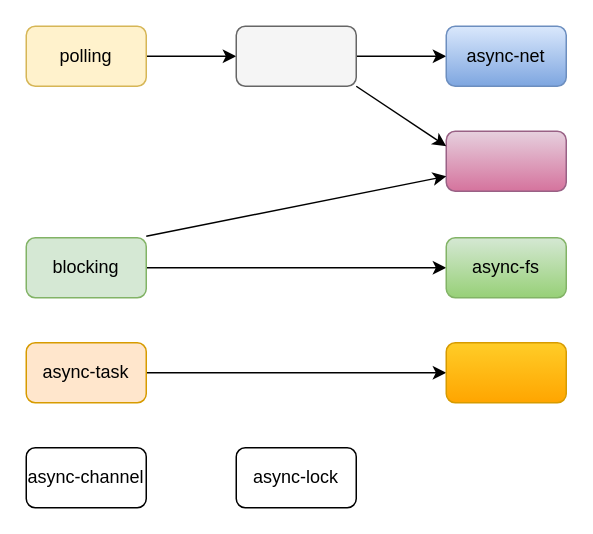
This 593x534 diagram has some shape labels left out. The centre of each missing label's shape, as x and y in pixels:
async-executor: the point at 505,372
async-io: the point at 295,55
async-process: the point at 505,160
